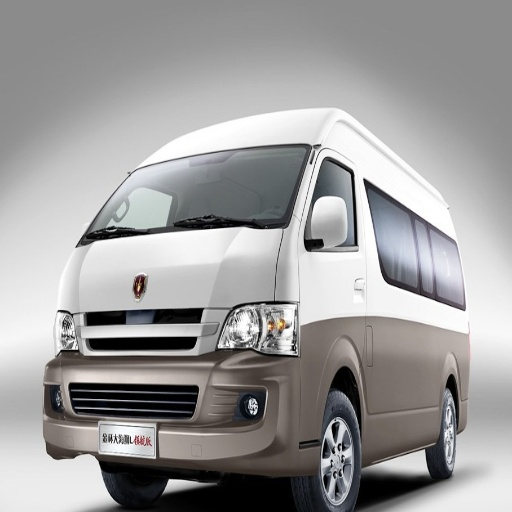front_bumper: (43, 308, 324, 474)
front_glass: (83, 148, 310, 242)
front_left_door: (301, 149, 363, 296)
trunk: (345, 317, 469, 402)
